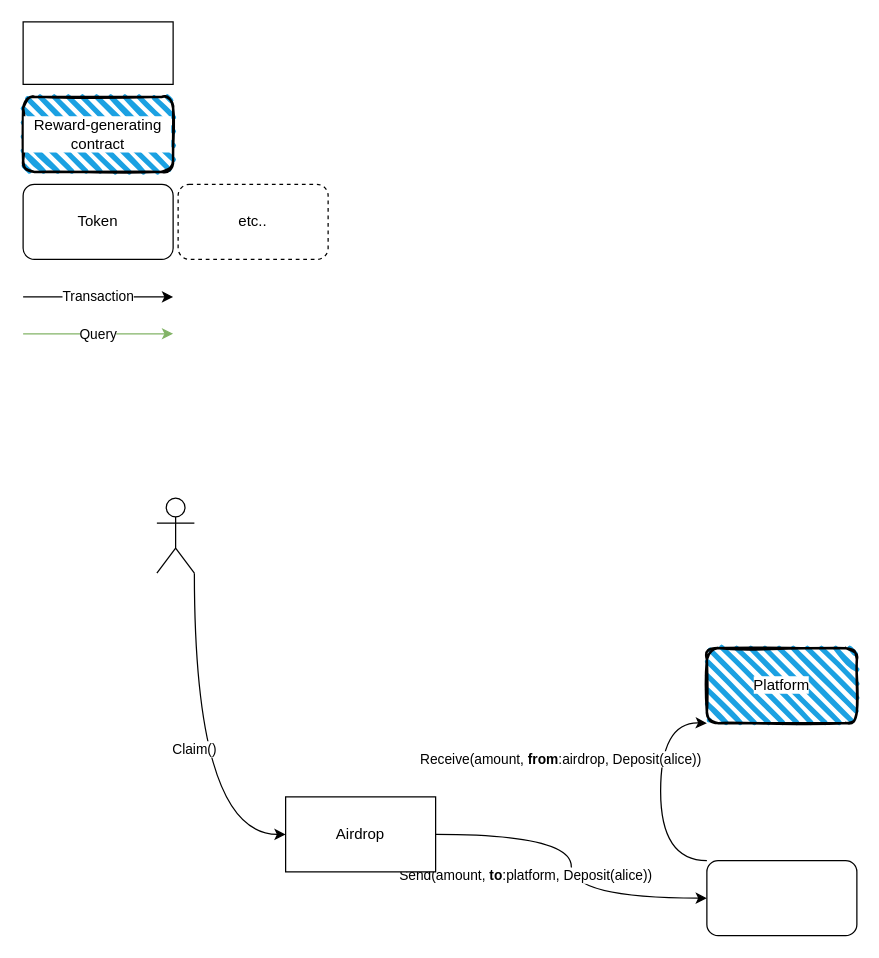
Some shapes in this 879 by 958 pixel diagram are drawn without their labels. The centre of each missing label's shape, as x and y in pixels:
$LGND: point (781, 897)
Alice: point (175, 535)
Contract: point (97, 52)
